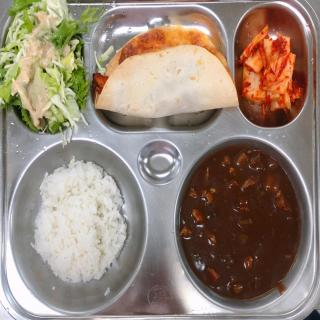Nasi: (34, 162, 129, 287)
